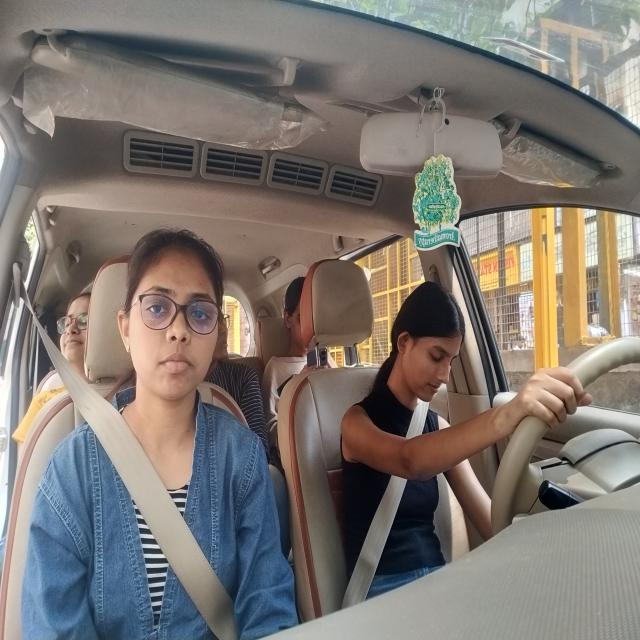drowsy: (389, 276, 469, 409)
person: (119, 224, 224, 417), (56, 290, 95, 374), (280, 275, 308, 354), (214, 299, 238, 365)
